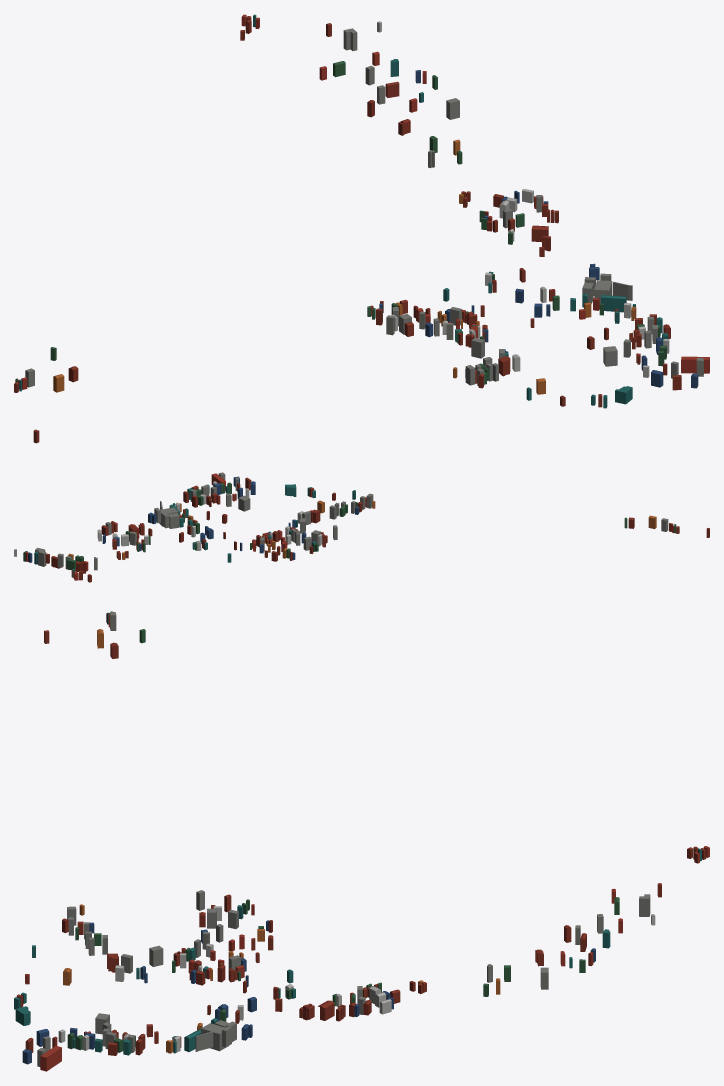
The model's file is near-15-27367-14869.a7d35d74.glb.
3 renders of one model, top to bottom at view 1: azimuth 30°, elevation 25°; view 2: azimuth 150°, elevation 25°; view 3: azimuth 270°, elevation 25°, orthographic. The views are drawn at different scales.
Size of the model in its own units: 1059 by 234 by 929.
